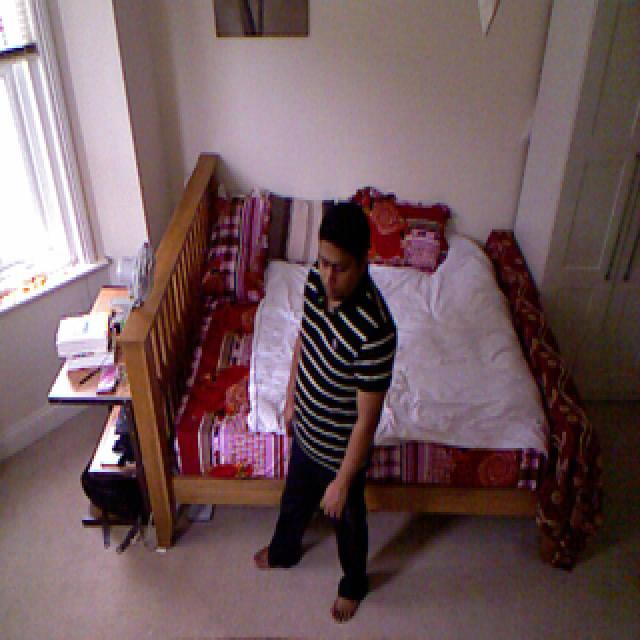standing: (257, 205, 402, 636)
